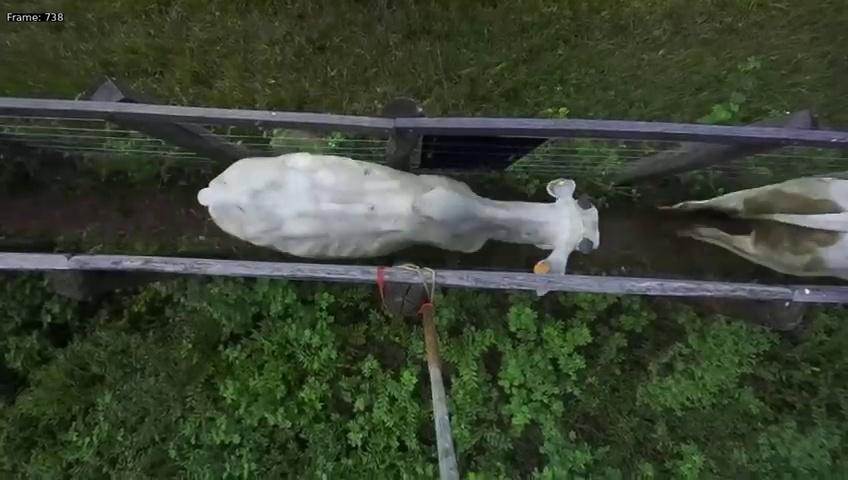cattle: (197, 122, 601, 274)
